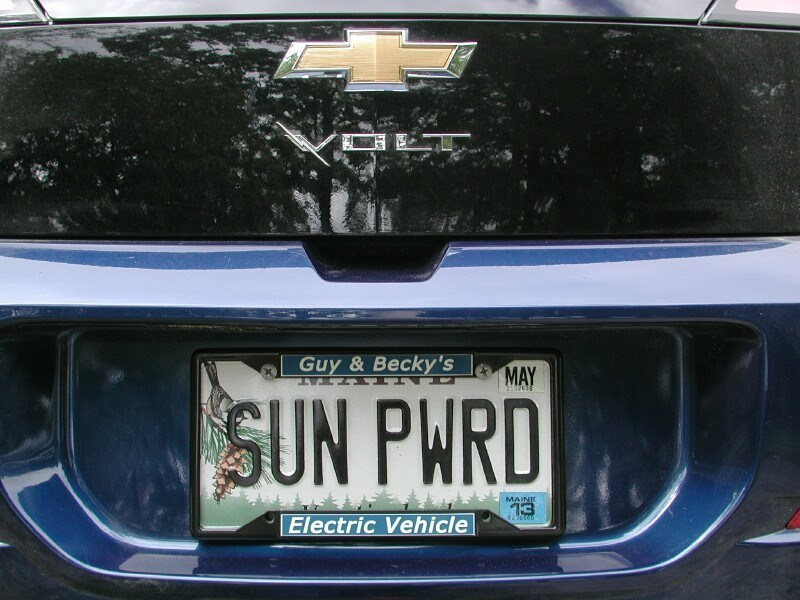license plate: (187, 346, 563, 544)
